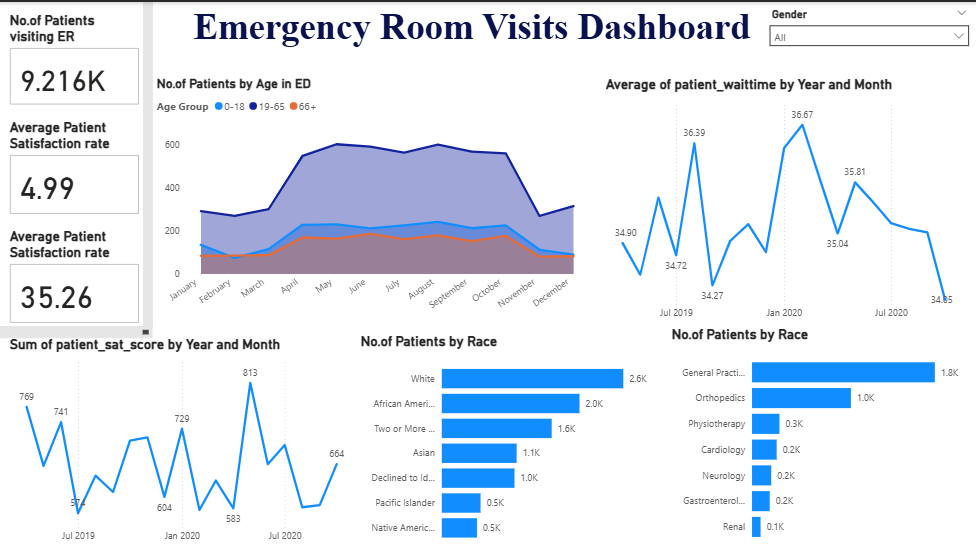

What the dashboard file says about the page in this screenshot:
{"tool":"powerbi","page":{"name":"Healthcare dashboard","canvas":[1280,720],"ordinal":0},"visuals":[{"type":"cardVisual","title":"No.of Patients visiting ER","fields":{"Data":["Count(Hospital ER.patient_id)"]},"box":[8.8,13.2,179.3,126.4],"z":0},{"type":"cardVisual","title":"Average Patient Satisfaction rate","fields":{"Data":["Avg(Hospital ER.patient_sat_score)"]},"box":[8.8,152.8,179.3,129.3],"z":4000},{"type":"cardVisual","title":"Average Patient Satisfaction rate","fields":{"Data":["Avg(Hospital ER.patient_waittime)"]},"box":[8.8,295.3,179.3,129.3],"z":5000},{"type":"lineChart","fields":{"Category":["Hospital ER.date.Variation.Date Hierarchy.Year","Hospital ER.date.Variation.Date Hierarchy.Month"],"Y":["Avg(Hospital ER.patient_waittime)"]},"box":[789.1,97,476.1,327.7],"z":6001},{"type":"lineChart","fields":{"Category":["Hospital ER.date.Variation.Date Hierarchy.Year","Hospital ER.date.Variation.Date Hierarchy.Month"],"Y":["Sum(Hospital ER.patient_sat_score)"]},"box":[8.8,437.9,459.9,279.2],"z":6002},{"type":"areaChart","title":"No.of Patients by Age in ED","fields":{"Category":["Hospital ER.date.Variation.Date Hierarchy.Year","Hospital ER.date.Variation.Date Hierarchy.Month"],"Y":["CountNonNull(Hospital ER.patient_id)"],"Series":["Hospital ER.Age Group"]},"box":[201.3,97,573.1,327.7],"z":6003},{"type":"barChart","title":"No.of Patients by Race","fields":{"Y":["CountNonNull(Hospital ER.patient_id)"],"Category":["Hospital ER.patient_race"]},"box":[468.7,433.5,390.9,286.5],"z":6004},{"type":"barChart","title":"No.of Patients by Race","fields":{"Y":["CountNonNull(Hospital ER.patient_id)"],"Category":["Hospital ER.department_referral"]},"box":[875.8,424.7,389.4,295.3],"z":6005},{"type":"textbox","box":[188.1,0,13.2,424.7],"z":6006},{"type":"textbox","box":[210.1,0,817,86.7],"z":6007},{"type":"textbox","box":[0,424.7,201.3,16.2],"z":6008},{"type":"slicer","fields":{"Values":["Hospital ER.patient_gender"]},"box":[999.2,2.9,280.7,73.5],"z":6009}]}

Visuals, with their boxes in screenshot pixels (x1, y1, x2, y2), scaled from the page's 1280x720 canvas onto the 976x552 screenshot:
"No.of Patients visiting ER" cardVisual: region(7, 10, 143, 107)
"Average Patient Satisfaction rate" cardVisual: region(7, 117, 143, 216)
"Average Patient Satisfaction rate" cardVisual: region(7, 226, 143, 326)
lineChart - Hospital ER.date.Variation.Date Hierarchy.Year x Hospital ER.date.Variation.Date Hierarchy.Month: region(602, 74, 965, 326)
lineChart - Hospital ER.date.Variation.Date Hierarchy.Year x Hospital ER.date.Variation.Date Hierarchy.Month: region(7, 336, 357, 550)
"No.of Patients by Age in ED" areaChart: region(153, 74, 590, 326)
"No.of Patients by Race" barChart: region(357, 332, 655, 551)
"No.of Patients by Race" barChart: region(668, 326, 965, 551)
textbox: region(143, 0, 153, 326)
textbox: region(160, 0, 783, 66)
textbox: region(0, 326, 153, 338)
slicer - Hospital ER.patient_gender: region(762, 2, 975, 59)
